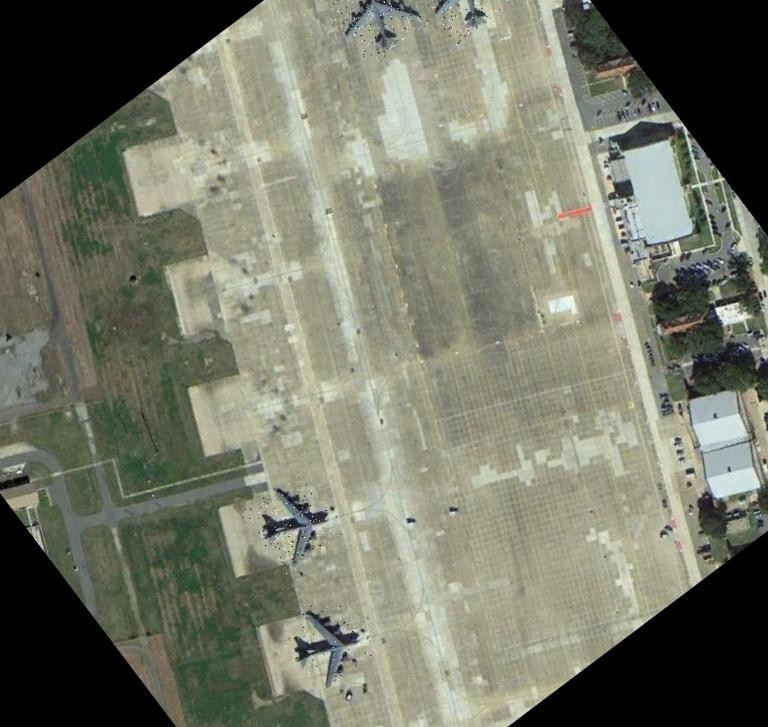A8: (240, 469, 344, 575), (273, 589, 377, 695), (324, 0, 430, 68), (412, 0, 520, 45)
